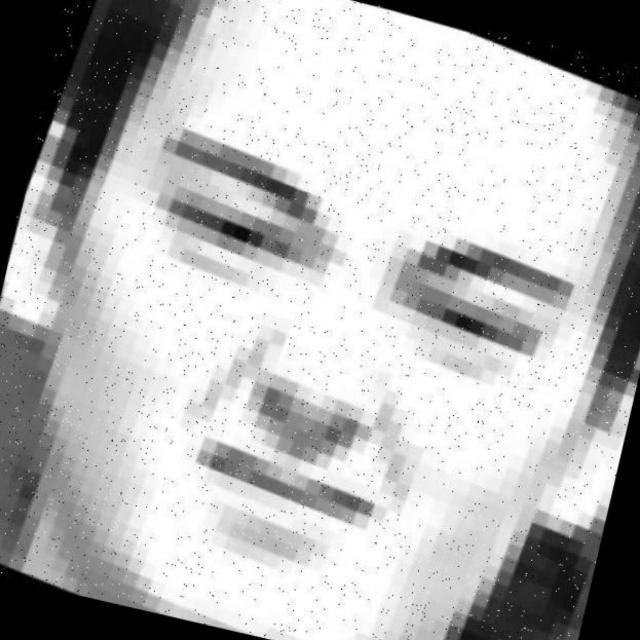Disgust: (53, 48, 565, 563)
